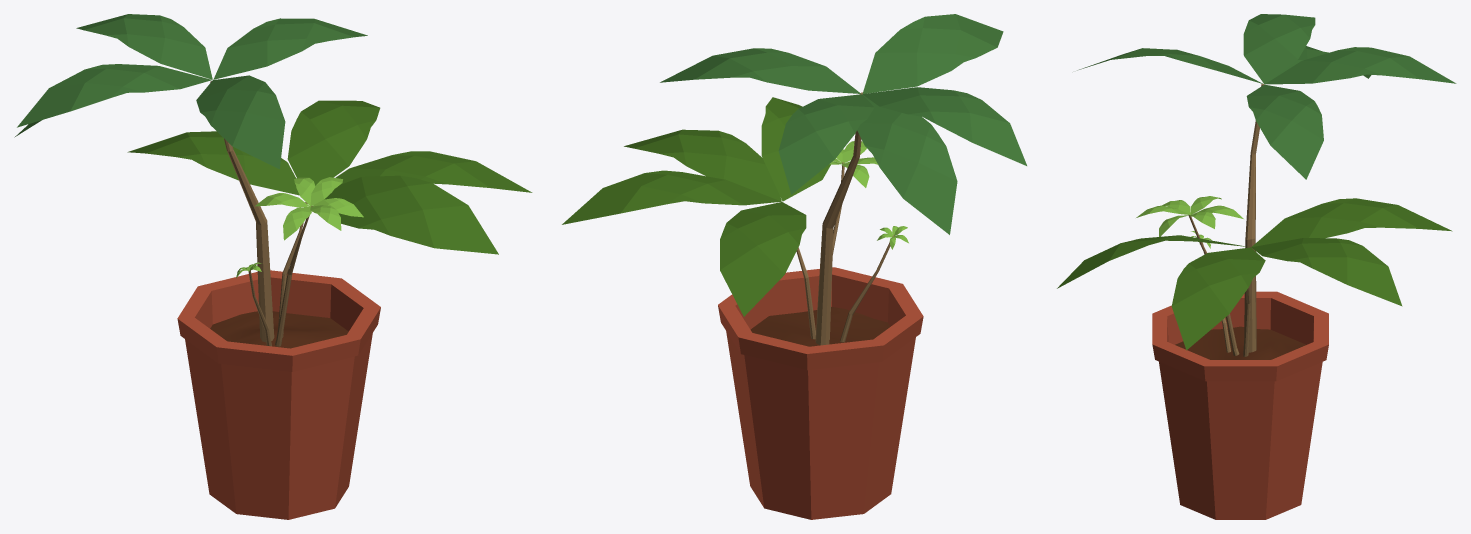
The model's file is plantcik2.fbx.
3 views of the same model, side by side, from view 1: azimuth 30°, elevation 25°; view 2: azimuth 150°, elevation 25°; view 3: azimuth 270°, elevation 25° (orthographic). The views are drawn at different scales.
Parts seen in each view (by area): view 1: pot, leaf.003, leaf.014, leaf.004, tige.001, tige.002; view 2: pot, leaf.014, leaf.003, tige.001, leaf.004; view 3: pot, leaf.003, leaf.014, tige.001, leaf.004.
Part boxes in pixels (box(x1,y1,x2,y2)): pot: box(177, 270, 380, 519); leaf.003: box(127, 100, 532, 254); leaf.014: box(14, 14, 367, 169); leaf.004: box(255, 177, 363, 240); tige.001: box(210, 81, 274, 342); tige.002: box(275, 206, 312, 346); pot: box(718, 267, 923, 519); leaf.014: box(660, 14, 1026, 234); leaf.003: box(562, 97, 830, 316); tige.001: box(815, 92, 862, 345); leaf.004: box(829, 141, 877, 187); pot: box(1152, 291, 1328, 519); leaf.003: box(1057, 198, 1452, 350); leaf.014: box(1077, 14, 1456, 179); tige.001: box(1244, 84, 1264, 352); leaf.004: box(1136, 196, 1243, 236).
Size of the model in its own units: 511 by 475 by 416.
